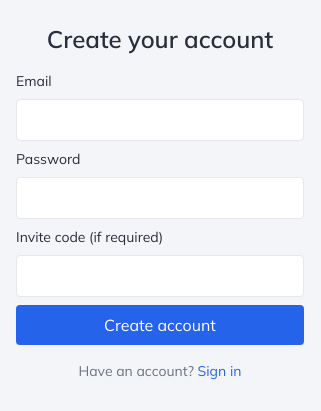
Test: Register › surfaces a closed-registration message
In the field labelled "Email": (160, 120) [16,99,304,141], type "a@x.com"
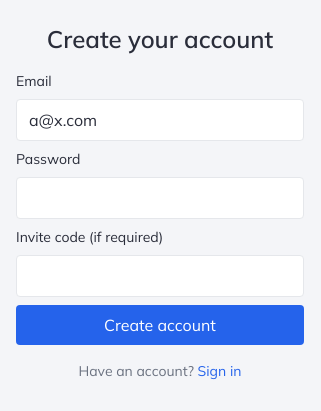
In the password field labelled "Password": (160, 198) [16,177,304,219], type "longenough1"
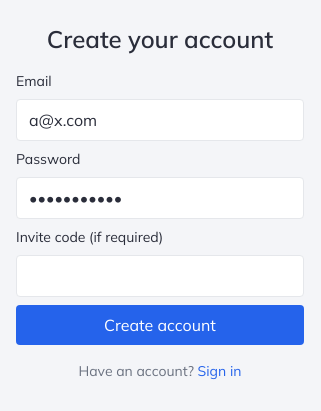
Click the button "Create account": (160, 325) [16,305,304,345]
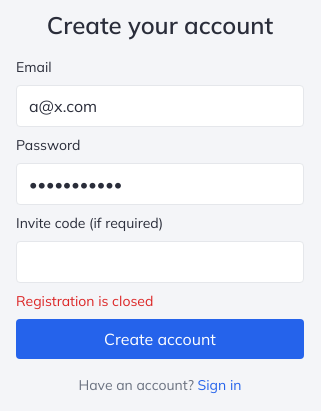
Now the text "Registration is closed" is shown, box [16,292,153,310]
